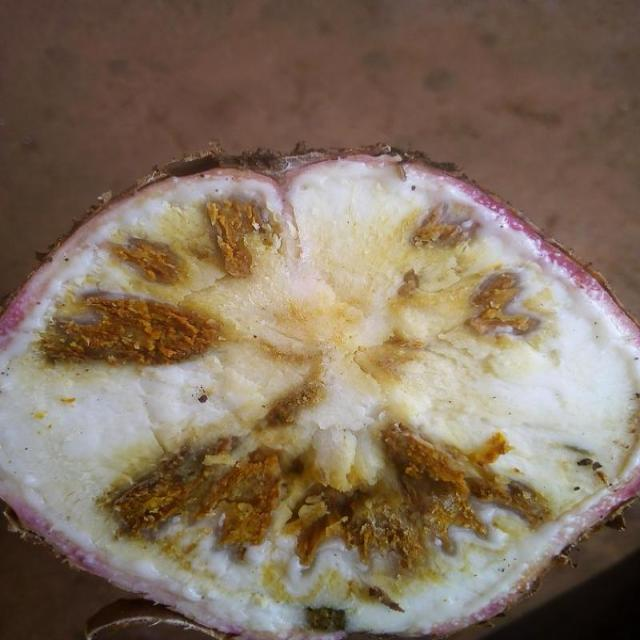cassava leaf: (2, 139, 639, 638)
